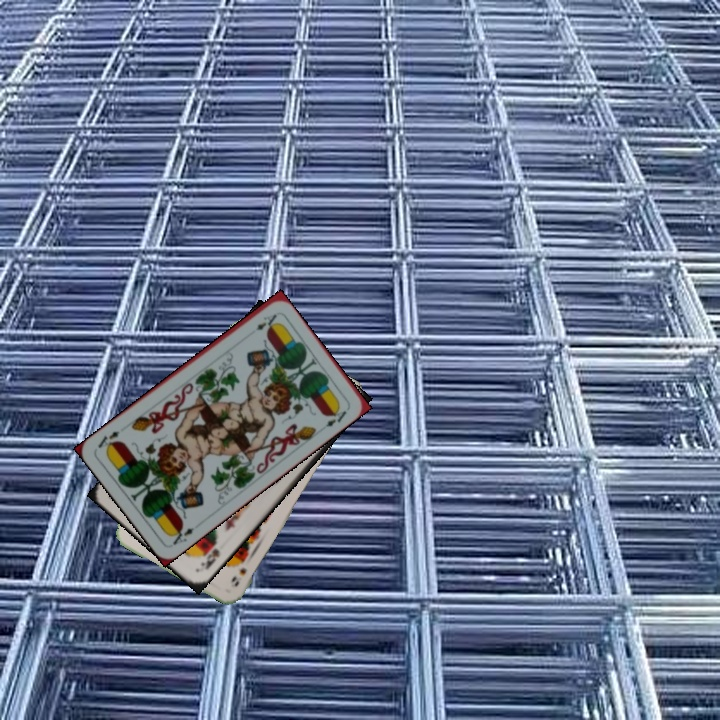EA: (165, 521, 197, 548), (252, 309, 280, 333)
S9: (227, 564, 249, 589)
SK: (197, 544, 222, 573)
